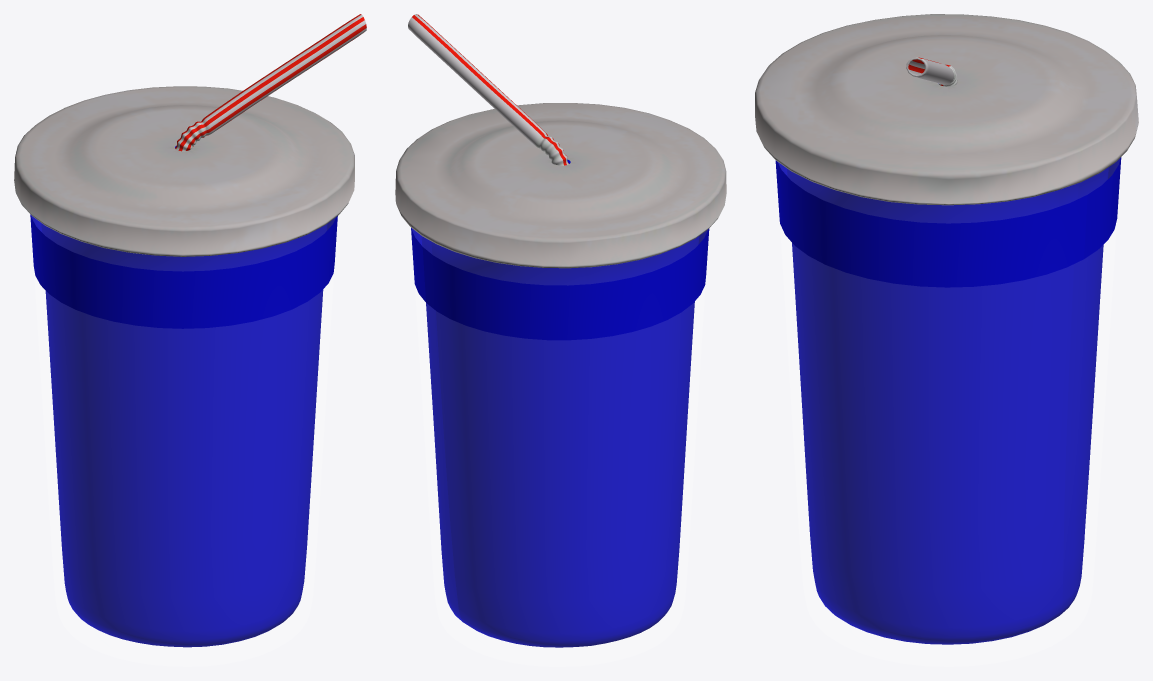
File: Mavi Cola 4.fbx
The picture shows the model from 3 angles, left to right: view 1: azimuth 30°, elevation 25°; view 2: azimuth 150°, elevation 25°; view 3: azimuth 270°, elevation 25°; orthographic projection. The views are drawn at different scales.
Parts seen in each view (by area): view 1: Cube.001, Cube.047, Cube.005, Cube.012; view 2: Cube.001, Cube.047, Cube.005, Cube.012; view 3: Cube.001, Cube.047, Cube.005, Cube.012.
Part boxes in pixels (x1,y1,x2,y2): Cube.001: [41, 146, 327, 647]; Cube.047: [14, 86, 354, 256]; Cube.005: [30, 214, 337, 666]; Cube.012: [175, 14, 366, 151]; Cube.001: [421, 159, 699, 647]; Cube.047: [395, 103, 726, 268]; Cube.005: [411, 227, 709, 666]; Cube.012: [408, 14, 568, 165]; Cube.001: [787, 167, 1108, 644]; Cube.047: [755, 14, 1138, 205]; Cube.005: [775, 157, 1121, 666]; Cube.012: [906, 57, 957, 86].
Bounding box in the file's own units: 20.32 × 35.49 × 19.14.
4 materials, 1 textured.
